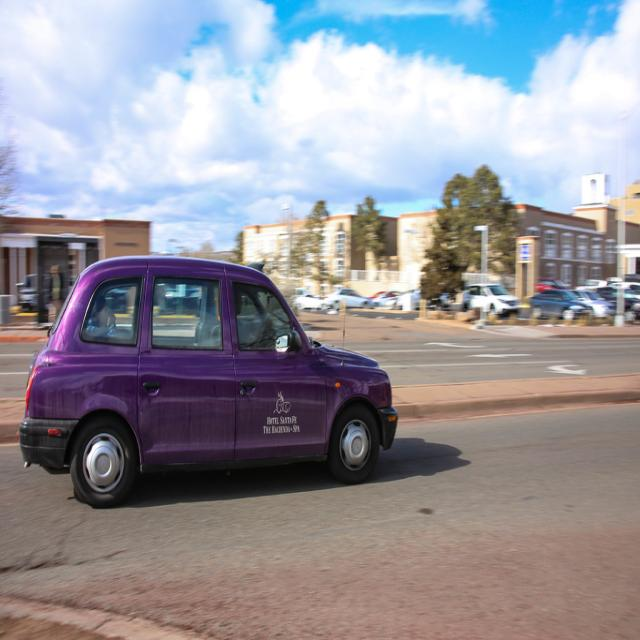car: (14, 254, 408, 510)
